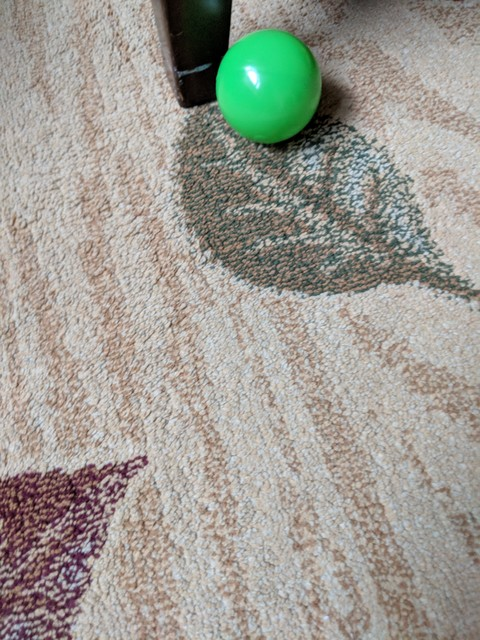ball: (215, 29, 324, 144)
